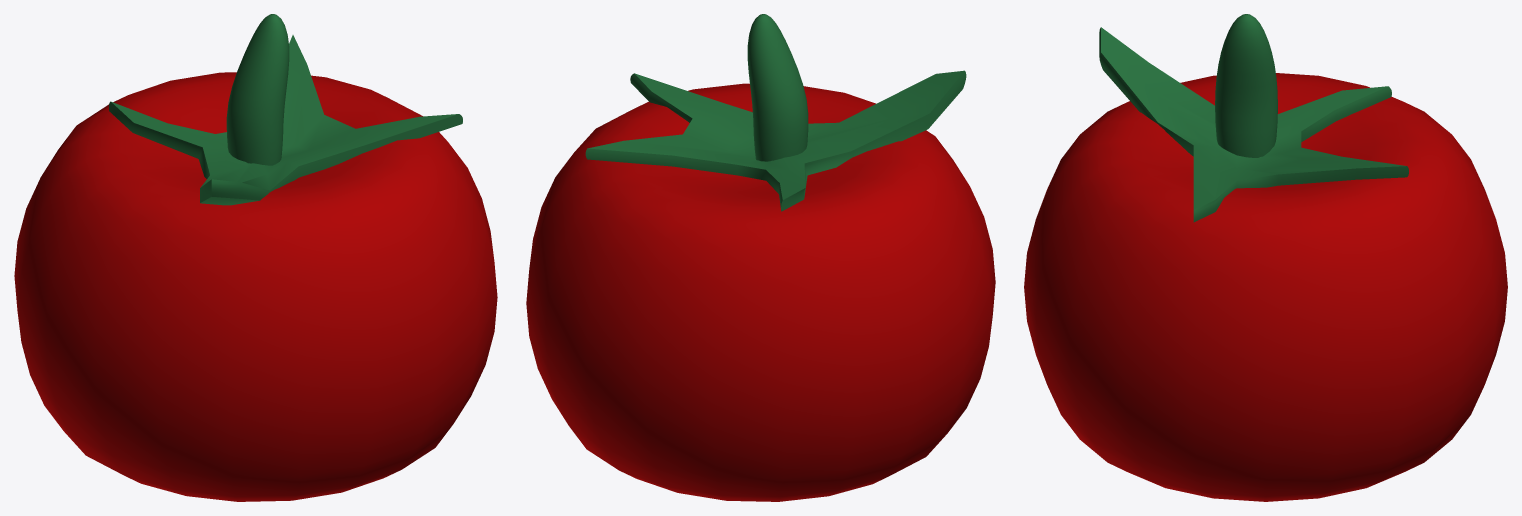
The model's file is 1of6Tomato.fbx.
The picture shows the model from 3 angles, left to right: view 1: azimuth 30°, elevation 25°; view 2: azimuth 150°, elevation 25°; view 3: azimuth 270°, elevation 25°; orthographic projection. The views are drawn at different scales.
Parts seen in each view (by area): view 1: pCube2; view 2: pCube2; view 3: pCube2.
Boxes of the visible parts, bbox=[...] form: pCube2: bbox=[14, 14, 497, 501]; pCube2: bbox=[526, 14, 995, 501]; pCube2: bbox=[1024, 14, 1507, 501].
Bounding box in the file's own units: 2 × 1.93 × 2.
